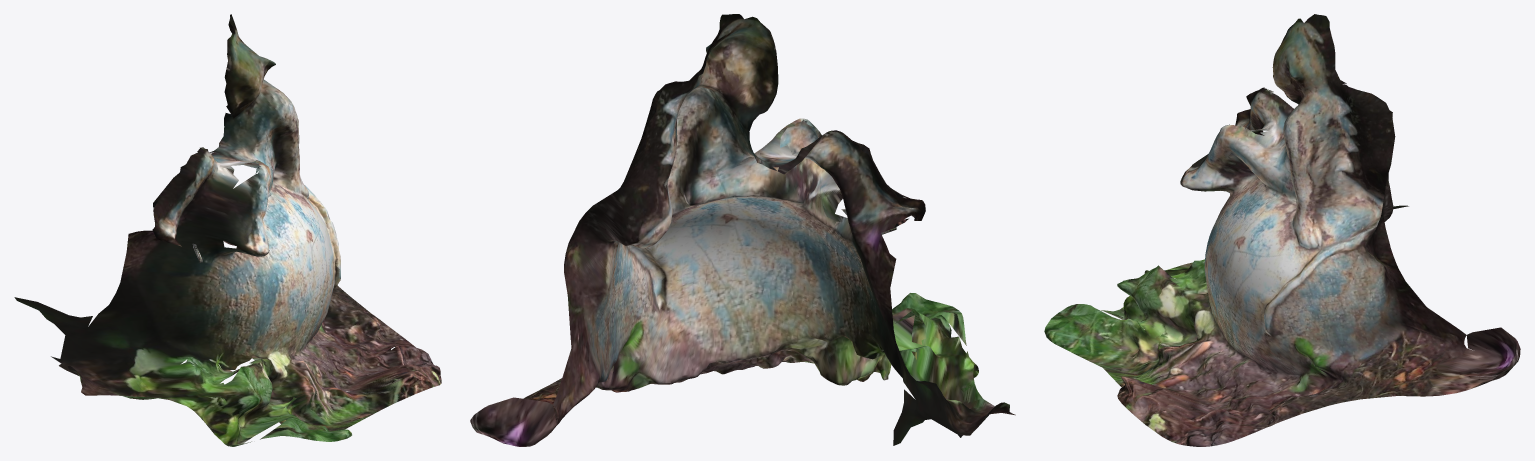
The model's file is aardBolMan.glb.
The picture shows the model from 3 angles, left to right: view 1: azimuth 30°, elevation 25°; view 2: azimuth 150°, elevation 25°; view 3: azimuth 270°, elevation 25°; orthographic projection. The views are drawn at different scales.
Parts seen in each view (by area): view 1: aardbolman; view 2: aardbolman; view 3: aardbolman.
Boxes of the visible parts, x1,y1,x2,y2 form: aardbolman: (14,14,441,446); aardbolman: (470,14,1015,446); aardbolman: (1044,14,1520,446).
Bounding box in the file's own units: 18.59 × 18.36 × 21.95.
Materials: 2 (2 with a texture image).
